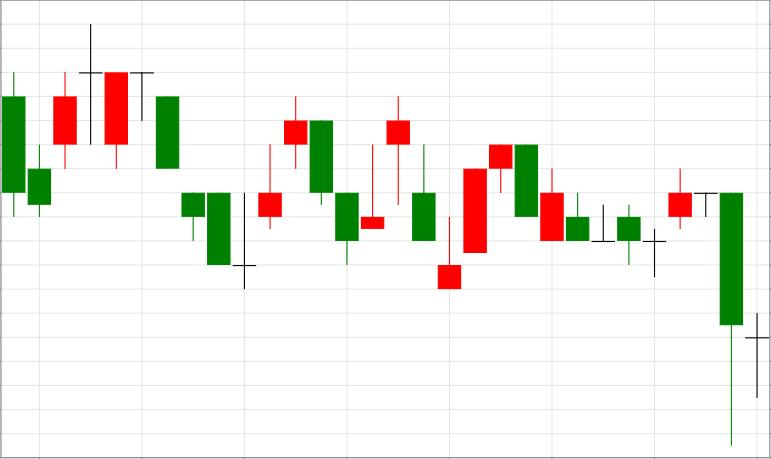bearish_engulfing_fall: (438, 145, 538, 290)
